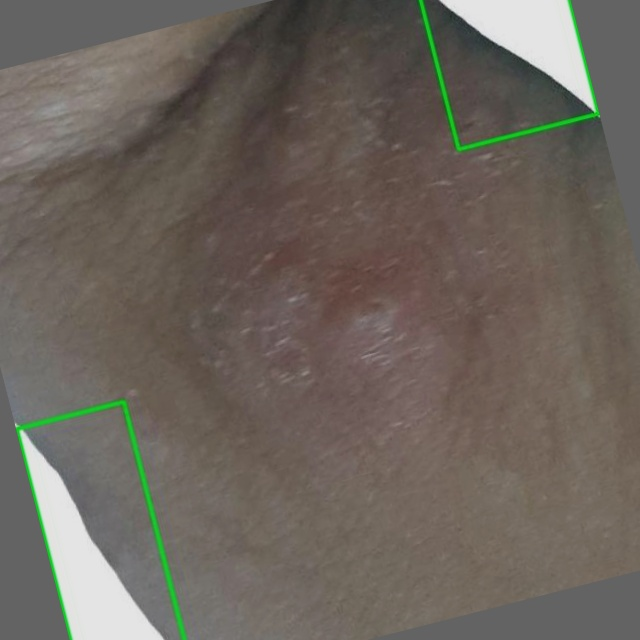Scabies: (16, 401, 184, 639), (420, 0, 598, 148)
